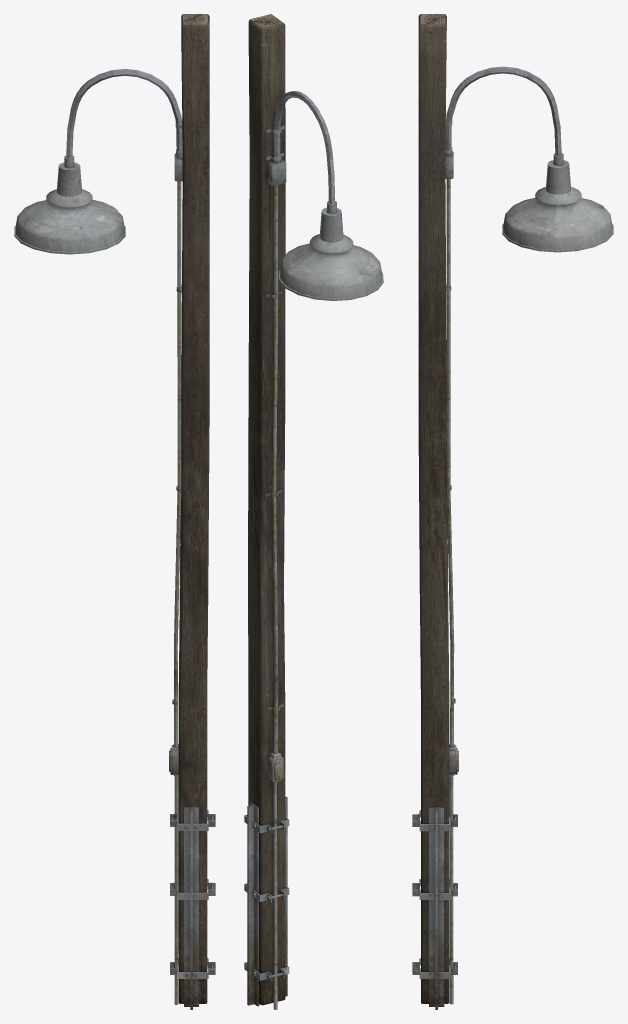
File: LightSource_Pole_Tall_01.fbx
The picture shows the model from 3 angles, left to right: view 1: azimuth 90°, elevation 25°; view 2: azimuth 210°, elevation 25°; view 3: azimuth 270°, elevation 25°; orthographic projection.
Parts seen in each view (by area): view 1: LightSource_Pole_Tall_01; view 2: LightSource_Pole_Tall_01; view 3: LightSource_Pole_Tall_01.
Part boxes in pixels (bbox=[...]): LightSource_Pole_Tall_01: bbox=[14, 14, 215, 1009]; LightSource_Pole_Tall_01: bbox=[244, 14, 383, 1009]; LightSource_Pole_Tall_01: bbox=[412, 14, 613, 1009].
Size of the model in its own units: 23.03 by 239 by 44.32.
1 material, 1 textured.
